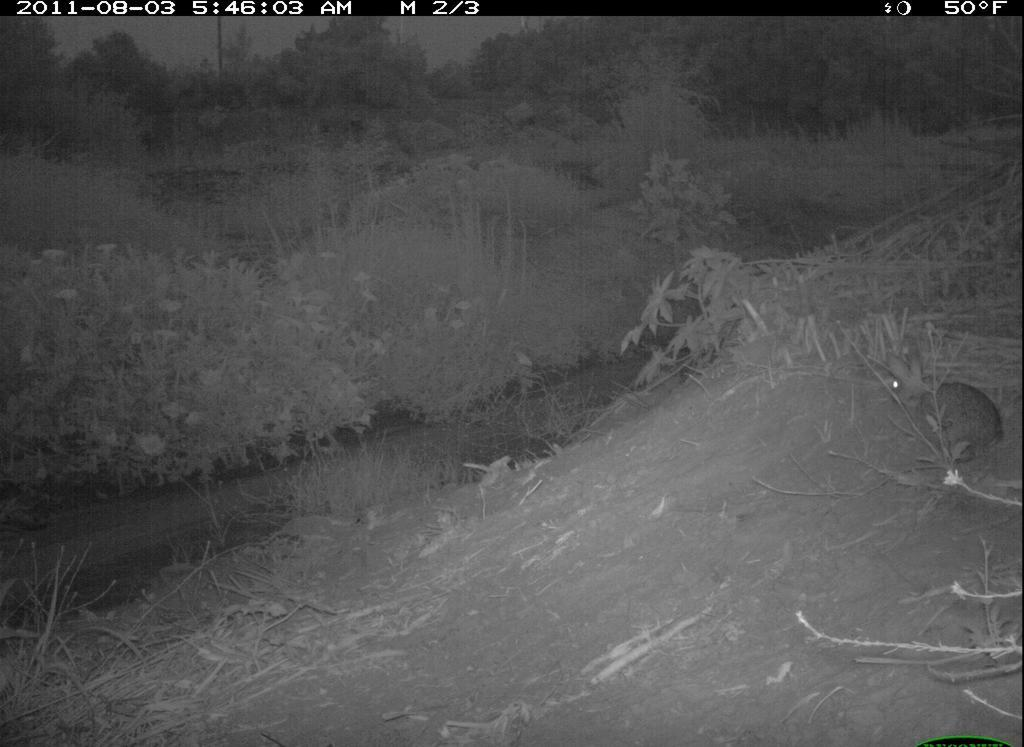rabbit: (875, 351, 1023, 474)
